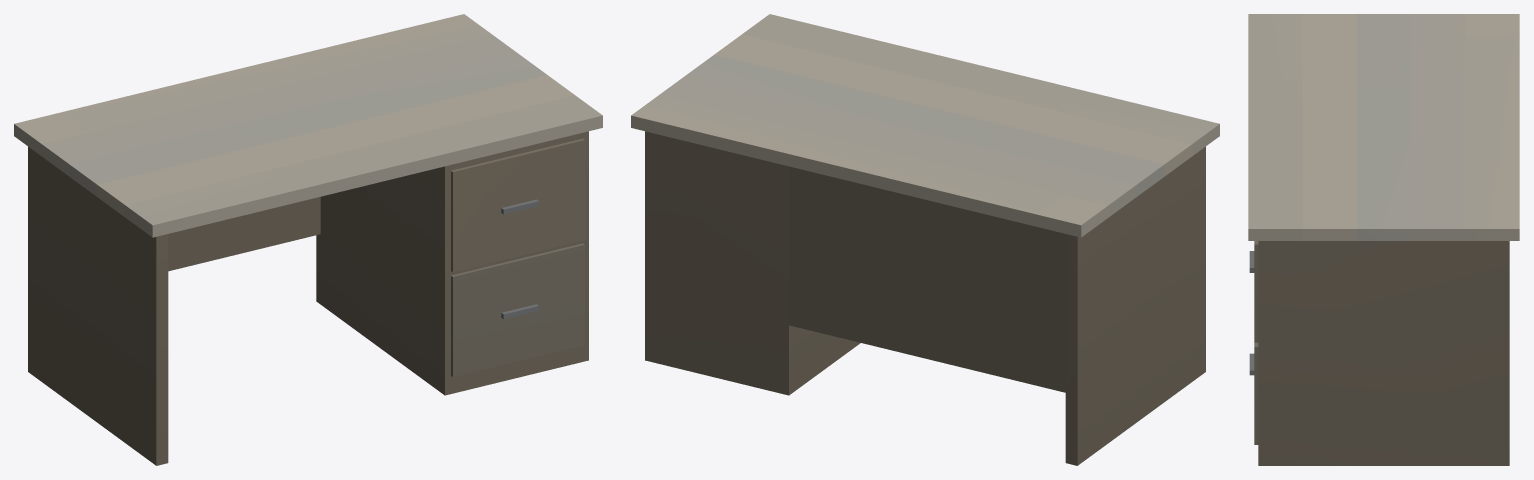
File: table.desk.office.glb
The picture shows the model from 3 angles, left to right: view 1: azimuth 30°, elevation 25°; view 2: azimuth 150°, elevation 25°; view 3: azimuth 270°, elevation 25°; orthographic projection. The views are drawn at different scales.
Parts seen in each view (by area): view 1: table_desk_office; view 2: table_desk_office; view 3: table_desk_office.
Boxes of the visible parts, x1,y1,x2,y2 form: table_desk_office: [14, 14, 602, 465]; table_desk_office: [631, 14, 1219, 465]; table_desk_office: [1248, 14, 1519, 465].
Size of what is drawn, in the model's own units: 1.53 by 0.8 by 0.816.
